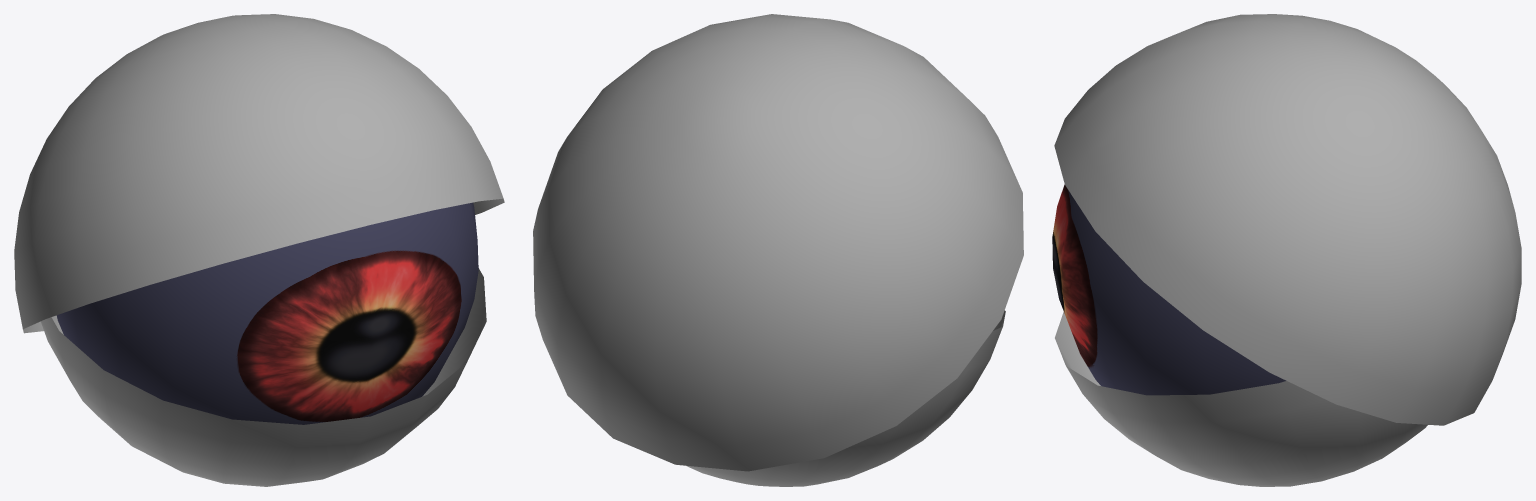
File: theater_puzzle_mainEye.fbx
3 renders of one model, left to right at view 1: azimuth 30°, elevation 25°; view 2: azimuth 150°, elevation 25°; view 3: azimuth 270°, elevation 25°, orthographic.
Parts seen in each view (by area): view 1: pSphere25, pSphere24, pSphere26; view 2: pSphere25, pSphere26; view 3: pSphere25, pSphere26, pSphere24.
Part boxes in pixels (left/top/right/bottom): pSphere25: left=14, top=14, right=504, bottom=333; pSphere24: left=56, top=202, right=478, bottom=424; pSphere26: left=40, top=268, right=486, bottom=486; pSphere25: left=533, top=14, right=1023, bottom=471; pSphere26: left=686, top=310, right=1005, bottom=486; pSphere25: left=1054, top=14, right=1521, bottom=425; pSphere26: left=1055, top=312, right=1427, bottom=486; pSphere24: left=1052, top=184, right=1286, bottom=395.
Size of the model in its own units: 19.76 by 18.44 by 18.34.
